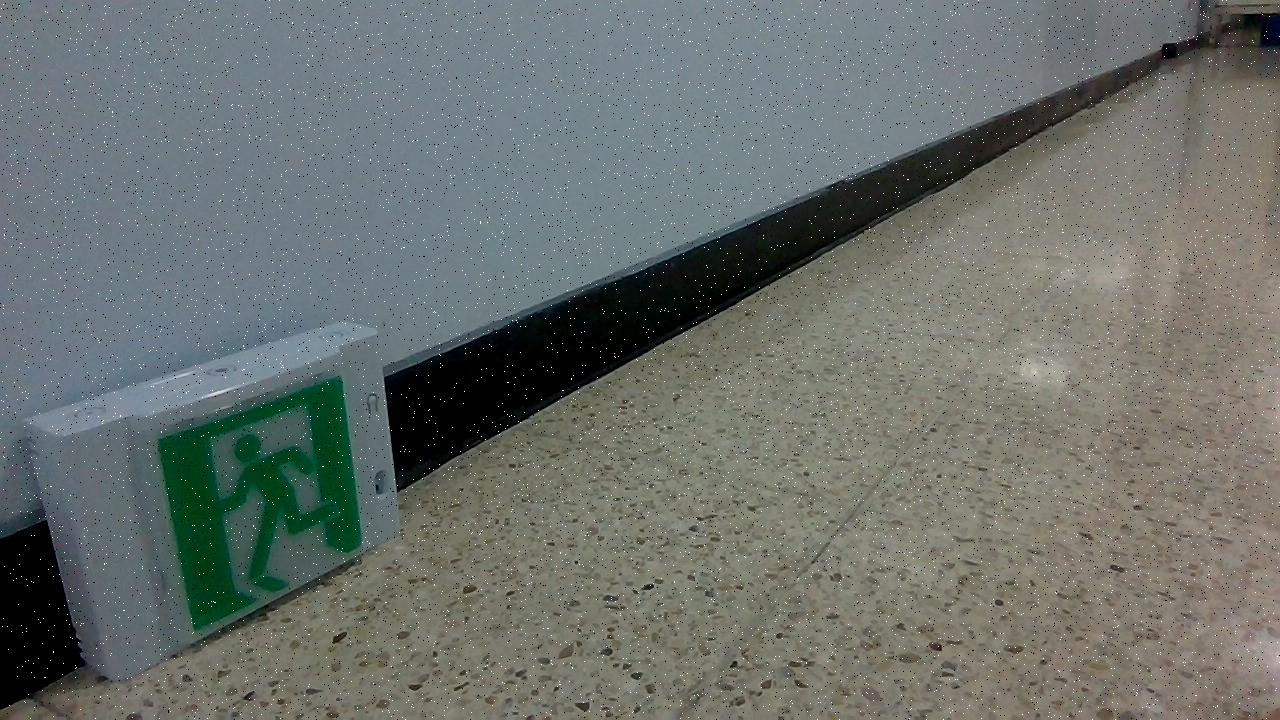emergency_exit: (23, 320, 402, 682), (155, 372, 366, 635)
